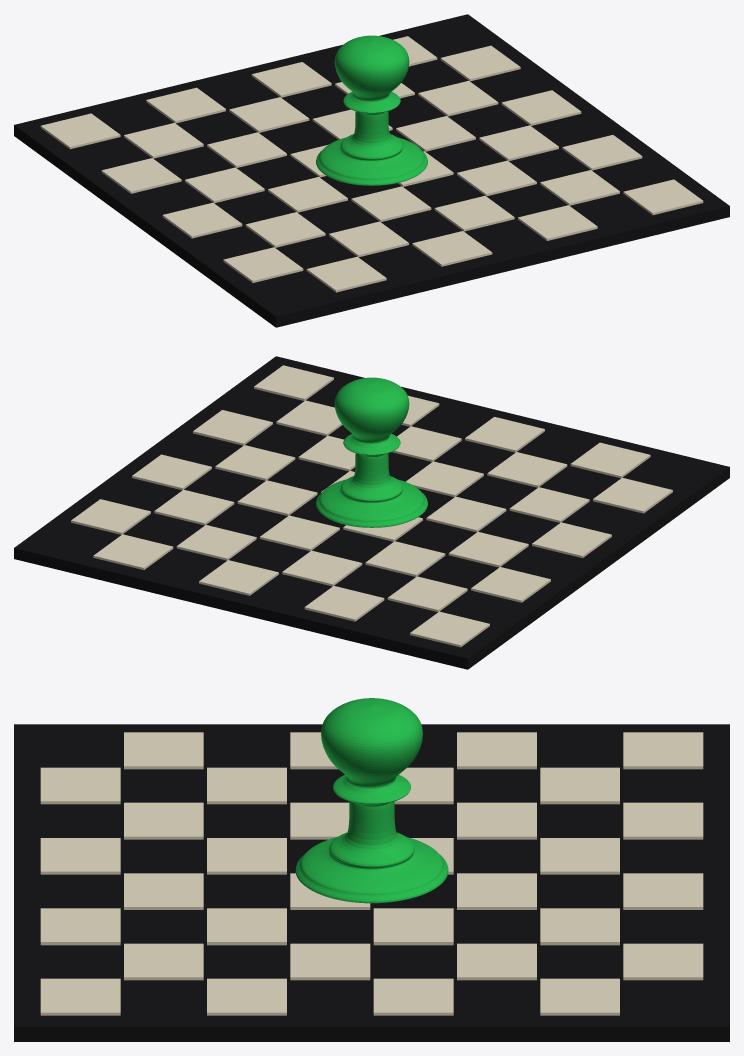
The picture shows the model from 3 angles, top to bottom: view 1: azimuth 30°, elevation 25°; view 2: azimuth 150°, elevation 25°; view 3: azimuth 270°, elevation 25°; orthographic projection. The views are drawn at different scales.
Parts seen in each view (by area): view 1: cb_base, cb_light, pawn; view 2: cb_base, cb_light, pawn; view 3: cb_base, cb_light, pawn.
Boxes of the visible parts, left/top/right/bottom form: cb_base: left=14, top=14, right=729, bottom=327; cb_light: left=40, top=36, right=703, bottom=292; pawn: left=316, top=35, right=427, bottom=185; cb_base: left=14, top=356, right=729, bottom=669; cb_light: left=71, top=365, right=672, bottom=647; pawn: left=316, top=377, right=427, bottom=527; cb_base: left=14, top=724, right=729, bottom=1041; cb_light: left=40, top=732, right=703, bottom=1015; pawn: left=295, top=698, right=448, bottom=903.
Bounding box in the file's own units: 8.6 × 2.44 × 8.6.
